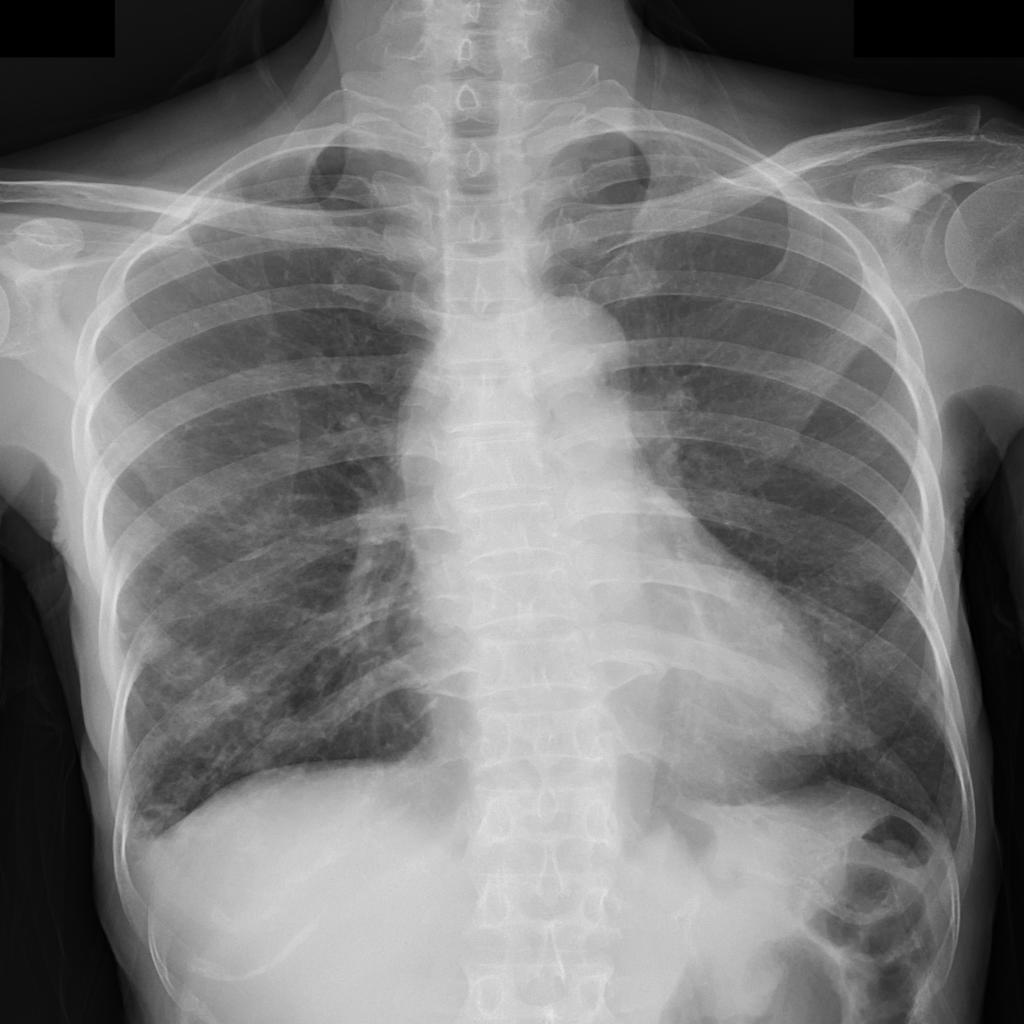Nodule: (255, 716, 324, 759), (767, 692, 831, 733)
